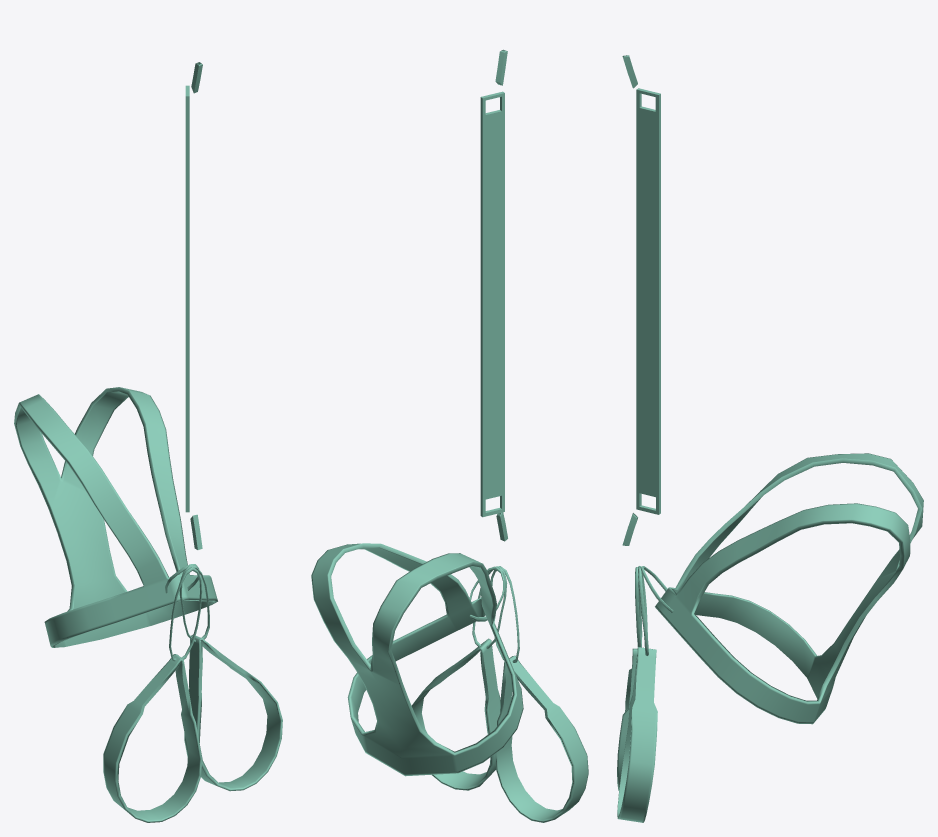
The model's file is MAN_NPC_2_Zipline_Modeling.fbx.
3 renders of one model, left to right at view 1: azimuth 30°, elevation 25°; view 2: azimuth 150°, elevation 25°; view 3: azimuth 270°, elevation 25°, orthographic.
Parts seen in each view (by area): view 1: ZIP1; view 2: ZIP1; view 3: ZIP1.
Part boxes in pixels (box(x1,y1,x2,y2)): ZIP1: box(14, 85, 282, 822); ZIP1: box(311, 91, 588, 822); ZIP1: box(617, 88, 923, 822).
Size of the model in its own units: 18.96 by 85.02 by 29.72.
